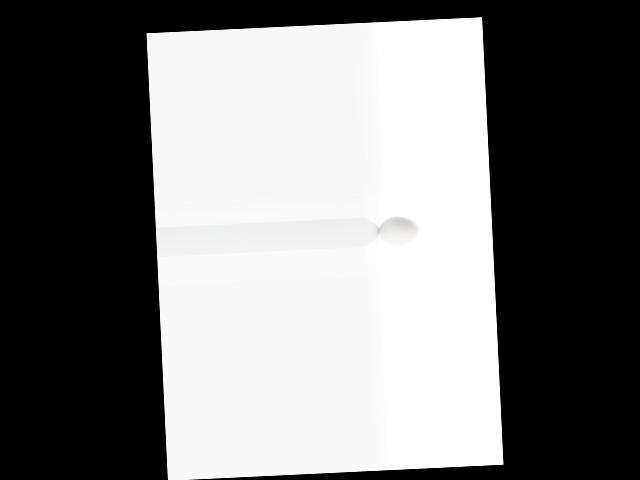egg: (378, 215, 419, 245)
